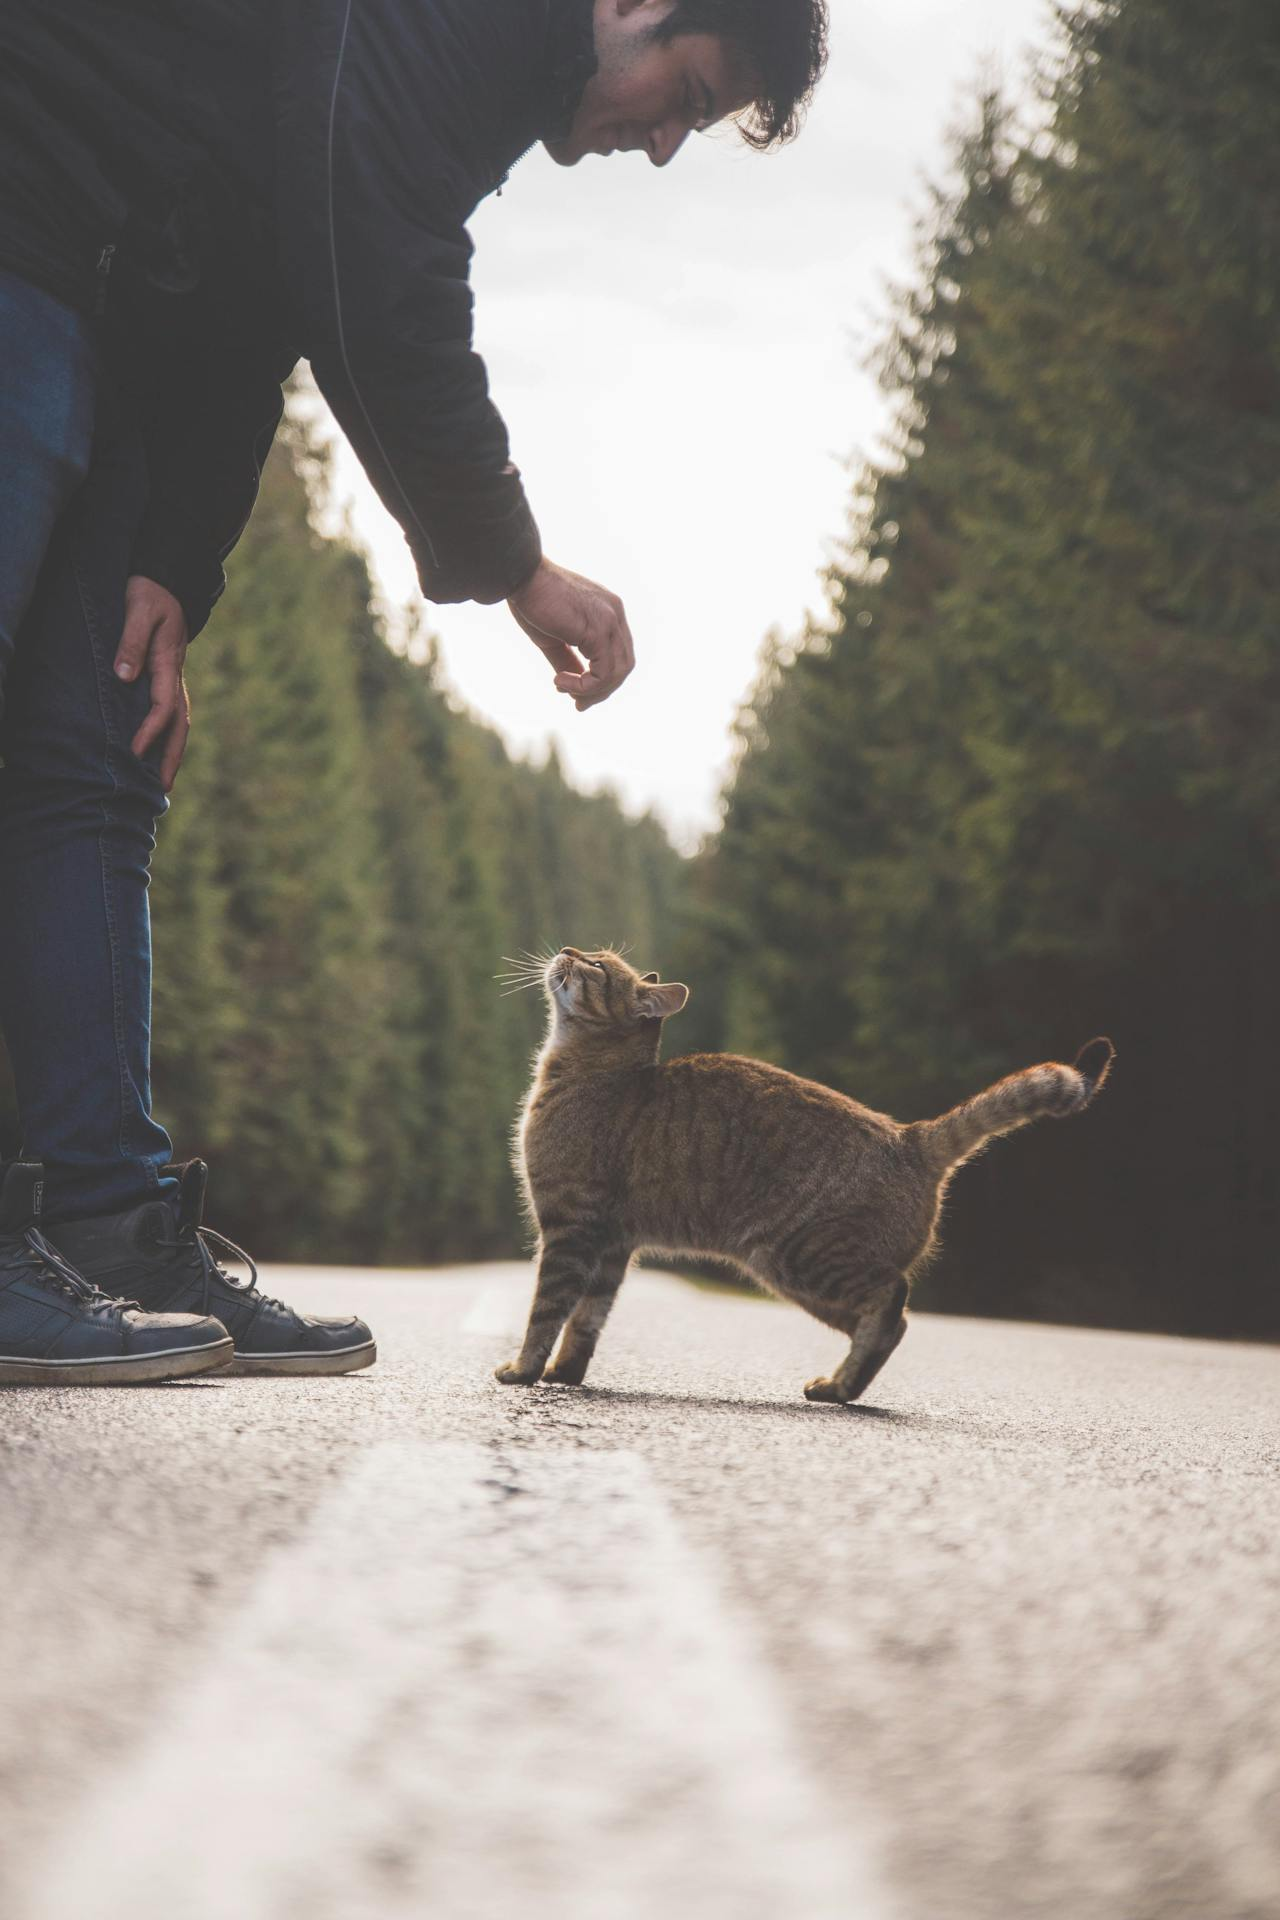cat: (481, 884, 1112, 1426)
person: (6, 3, 860, 728)
